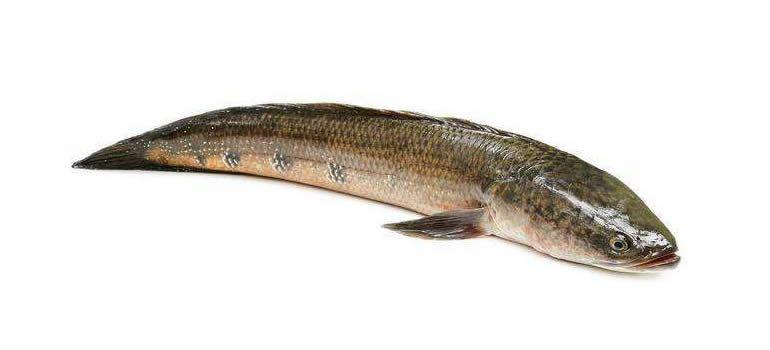Mudfish: (70, 97, 682, 278)
